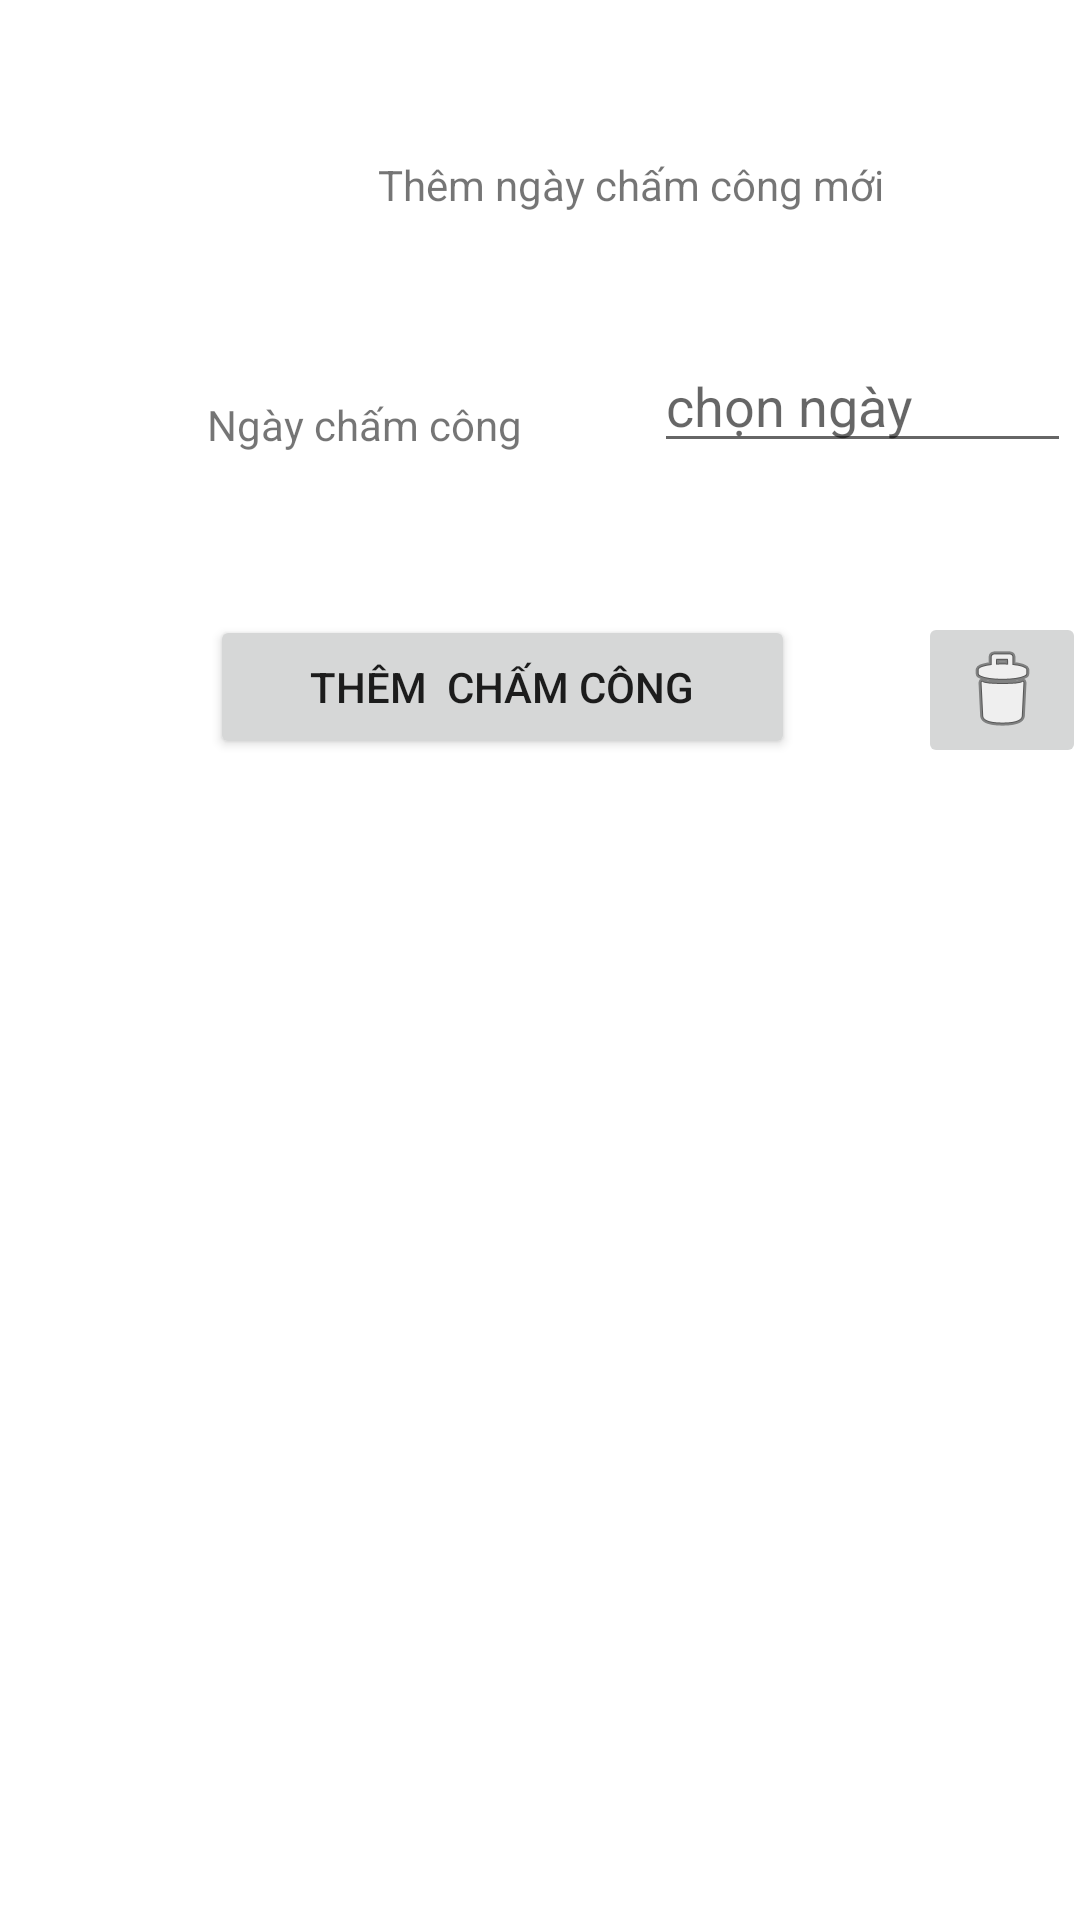

Icon click points for this 1080x1920 phone screenshot, format (x,y):
delete: (1002,690)
